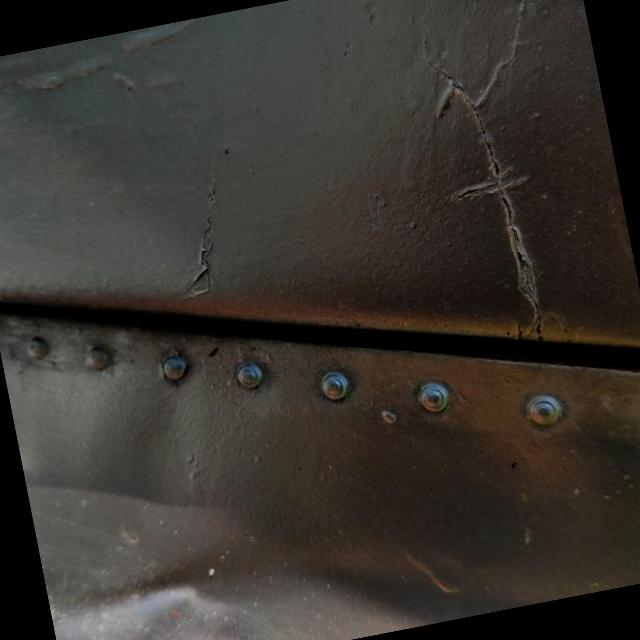crack: (398, 20, 606, 377)
